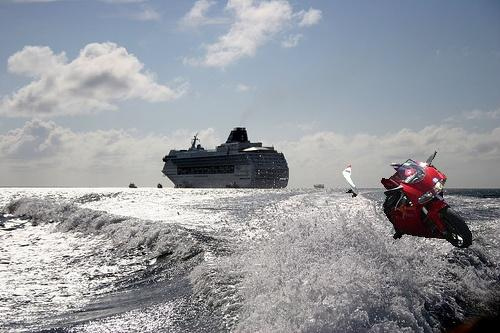tampered: (343, 152, 472, 248)
